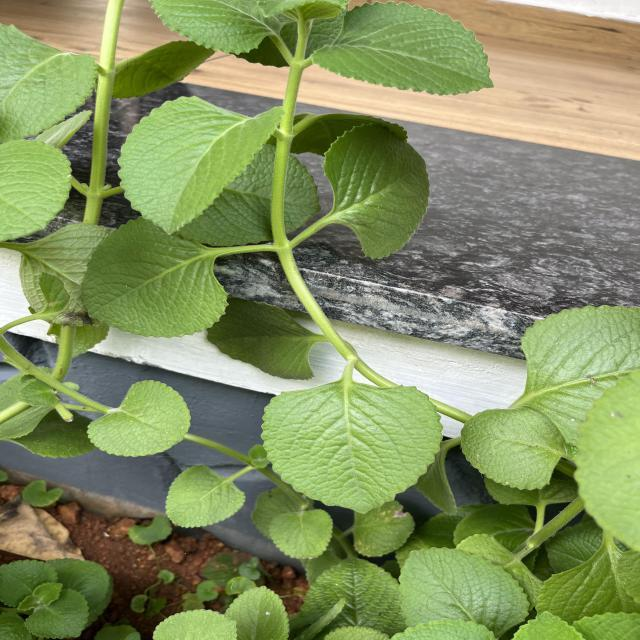Plectranthus barbatus: (260, 382, 446, 516), (117, 96, 287, 237), (79, 213, 231, 339), (311, 0, 498, 99), (321, 120, 431, 264), (397, 546, 532, 638), (206, 298, 315, 382), (460, 407, 562, 492), (301, 556, 401, 640), (86, 379, 192, 457), (164, 464, 248, 528), (224, 584, 292, 640), (268, 508, 334, 560), (24, 587, 90, 639), (0, 558, 60, 608)
